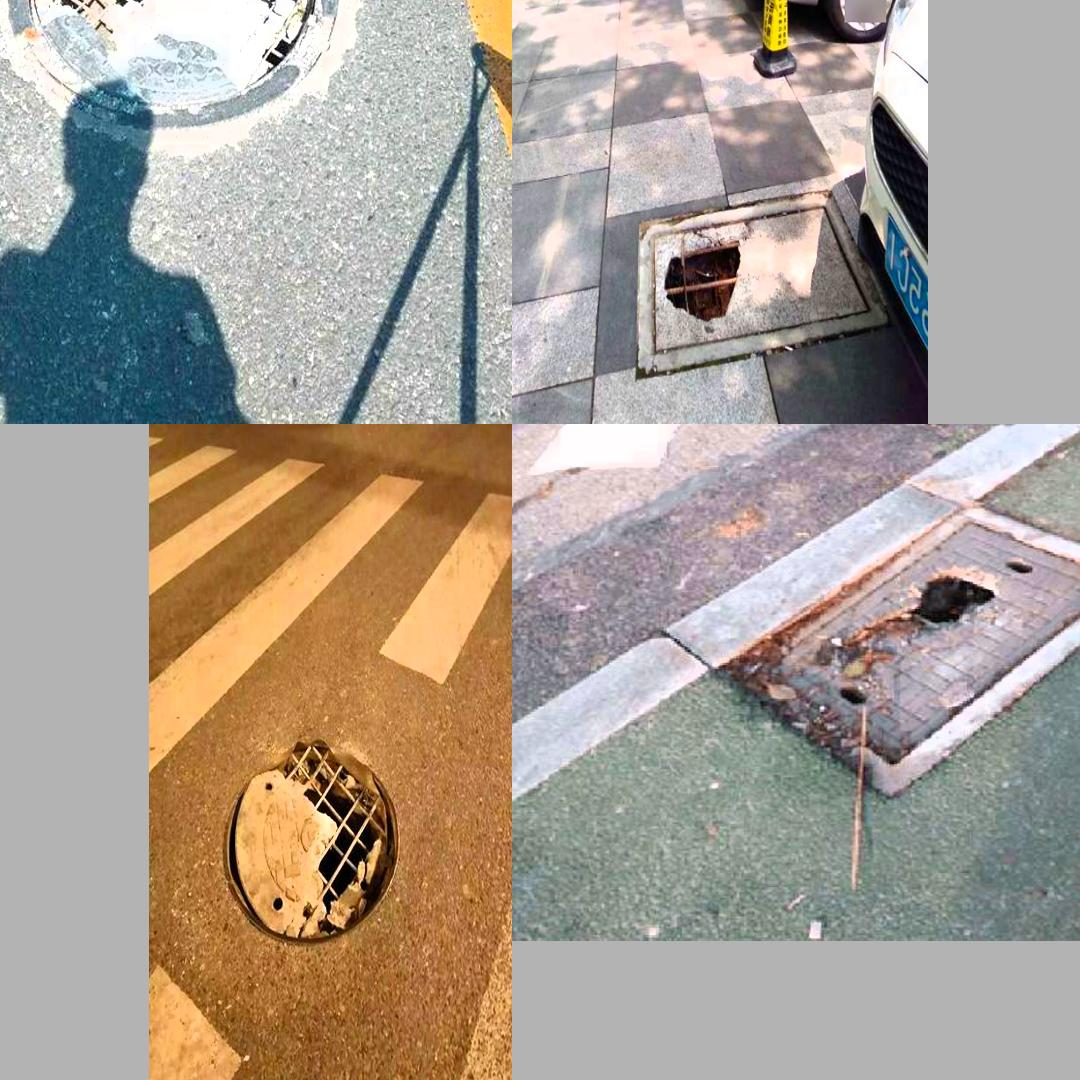broke: (709, 484, 1080, 795), (0, 0, 360, 148), (637, 190, 888, 375), (211, 728, 410, 953)
